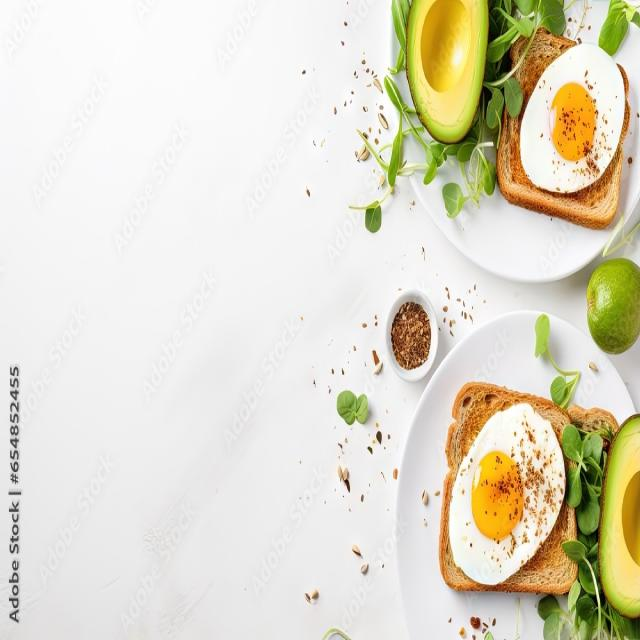Egg: (449, 402, 565, 584), (520, 45, 625, 192)
